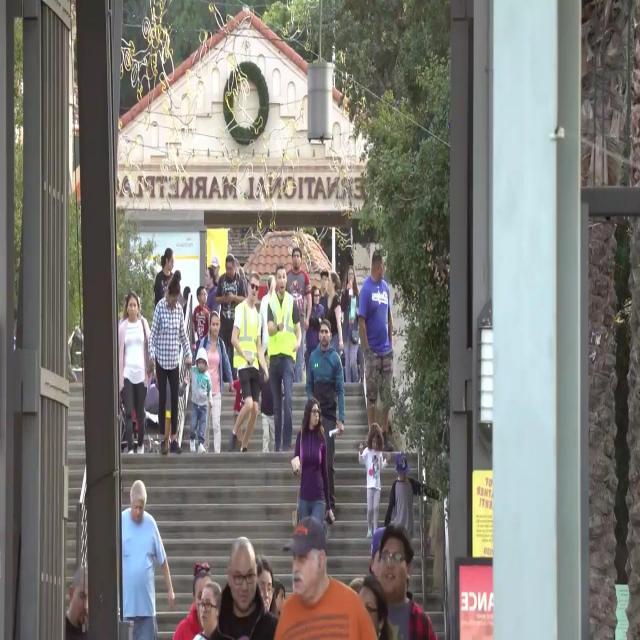Reflective-Jacket: (267, 293, 299, 359), (233, 300, 261, 370)
